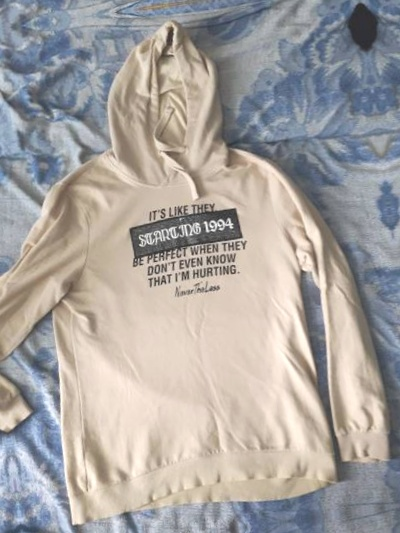Hoodie: (0, 6, 400, 533), (377, 0, 400, 492), (0, 62, 22, 533), (29, 512, 400, 533), (0, 0, 337, 9)
